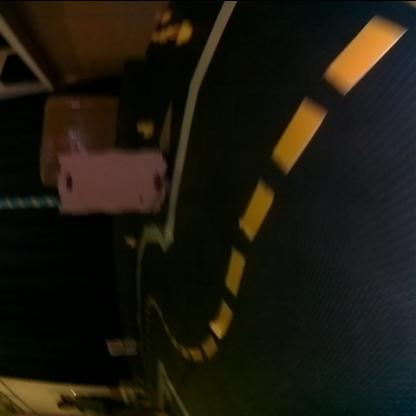Duckie: (167, 21, 191, 44), (136, 119, 152, 136), (153, 8, 169, 22), (149, 30, 167, 42), (124, 234, 136, 245)
